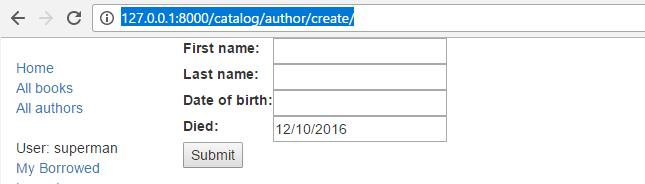button: (179, 138, 252, 176)
textbox: (270, 37, 451, 68)
